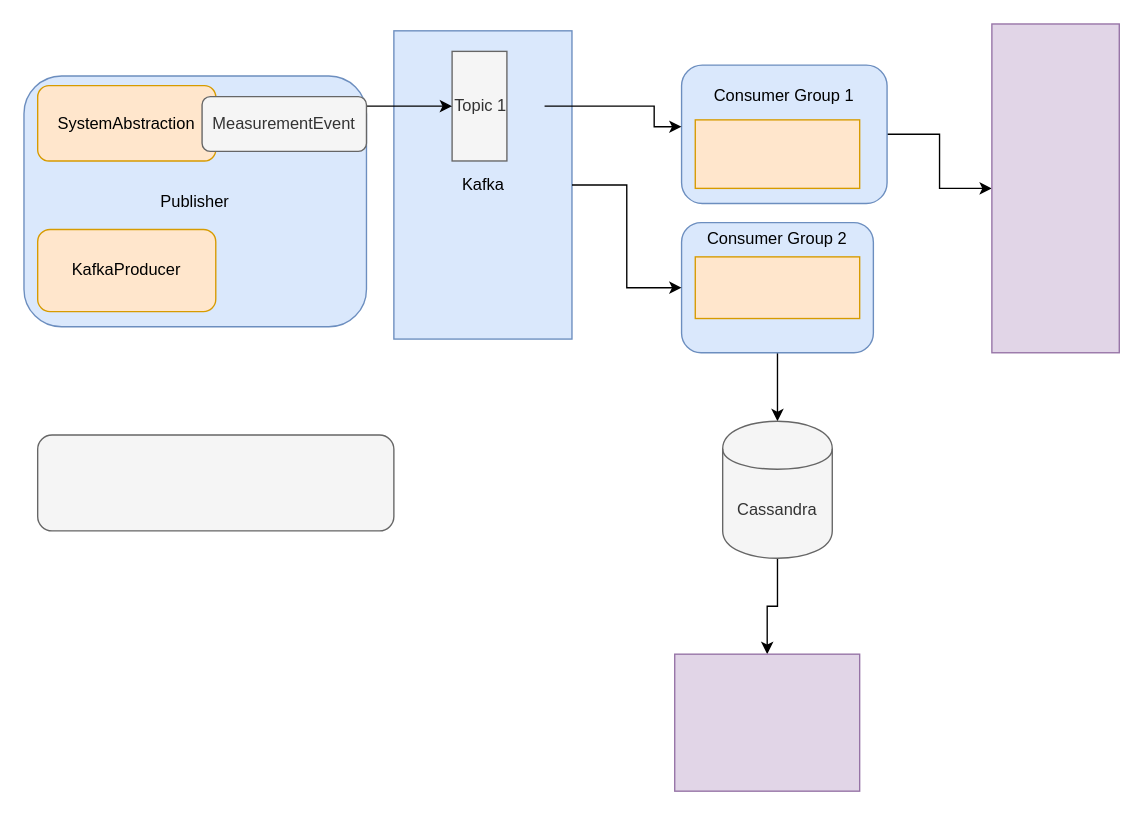
The diagram is 1144 pixels wide and 815 high, and some of its shapes have lost their labels. Each missing label, with the centre of its shape:
Consumer (to NR): point (777, 153)
Consumer Kafka: point (777, 287)
Custom UI: point (766, 722)
MeasurementEvent cpuTemp cpuVoltage fanSpeeds[]: point (215, 482)
New Relic: point (1055, 188)
